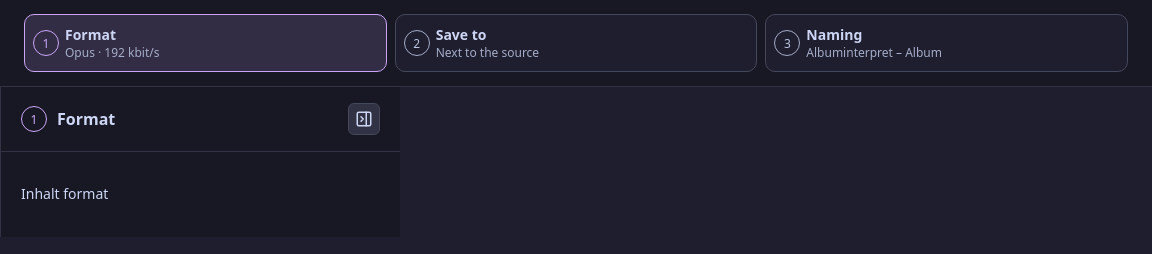
Test: StepTiles › click_on_open_tile_closes_panel
Click the button "2 Save to Next to the source" at [461, 34], box x1=395 y1=14 x2=757 y2=72
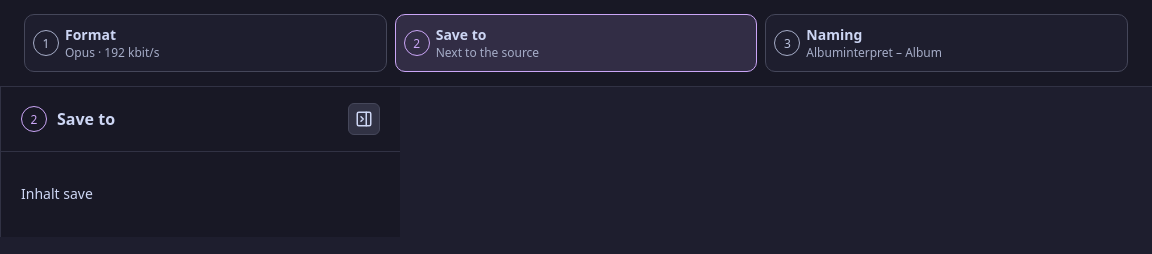
Click the button "2 Save to Next to the source" at [461, 34], box x1=395 y1=14 x2=757 y2=72
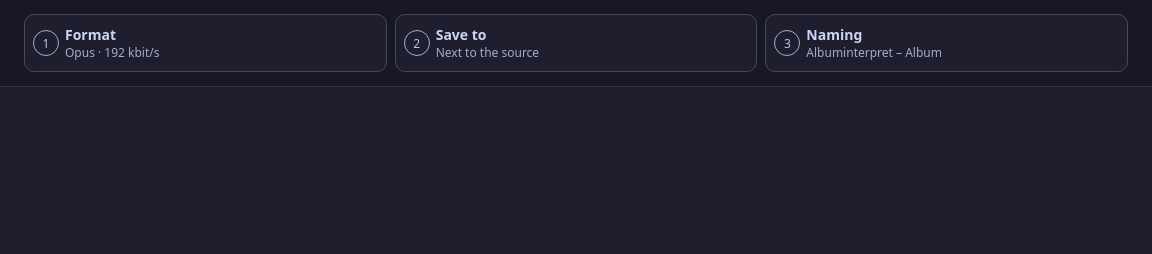
Expected: the text "Inhalt" is gone
